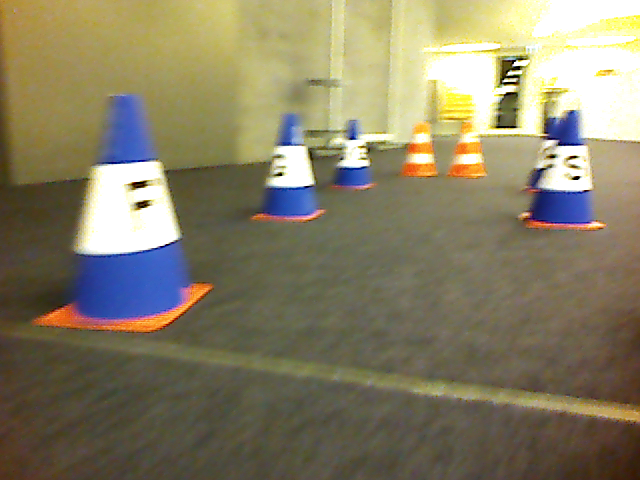bluecone: (31, 93, 217, 331), (521, 110, 605, 231), (249, 113, 326, 222), (328, 118, 377, 191)
orangeconesmall: (398, 121, 442, 178), (446, 123, 488, 179)
